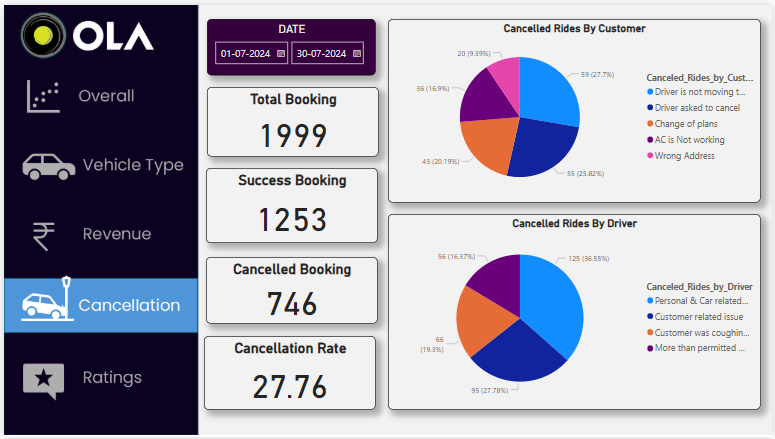

The dashboard page shown, as its layout file describes it:
{"tool":"powerbi","page":{"name":"Cancellation","canvas":[1280,720],"ordinal":3},"visuals":[{"type":"actionButton","box":[0,334.5,323.1,96.4],"z":0},{"type":"actionButton","box":[1.4,569.8,323.1,104.9],"z":1000},{"type":"actionButton","box":[0,211.2,323.1,109.1],"z":2000},{"type":"actionButton","box":[0,103.5,323.1,99.2],"z":3000},{"type":"pieChart","title":"Cancelled Rides By Customer","fields":{"Category":["Bookings-20000-Rows.Canceled_Rides_by_Customer"],"Y":["CountNonNull(Bookings-20000-Rows.Canceled_Rides_by_Customer)"]},"box":[640.6,24.1,620.8,306.1],"z":4000},{"type":"pieChart","title":"Cancelled Rides By Driver","fields":{"Y":["CountNonNull(Bookings-20000-Rows.Canceled_Rides_by_Driver)"],"Category":["Bookings-20000-Rows.Canceled_Rides_by_Driver"]},"box":[640.6,348.7,620.8,326],"z":5000},{"type":"slicer","title":"DATE","fields":{"Values":["Bookings-20000-Rows.Date"]},"box":[338.7,24.1,280.6,93.5],"z":6000},{"type":"card","title":"Total  Booking","fields":{"Values":["CountNonNull(Bookings-20000-Rows.Booking_ID)"]},"box":[338.7,137.5,286.3,116.2],"z":7000},{"type":"card","title":"Success Booking","fields":{"Values":["CountNonNull(Bookings-20000-Rows.Booking_ID)"]},"box":[335.9,272.1,286.3,124.7],"z":8000},{"type":"card","title":"Cancelled Booking","fields":{"Values":["CountNonNull(Bookings-20000-Rows.Booking_ID)"]},"box":[336.5,419.5,285.8,110.6],"z":9000},{"type":"card","title":"Cancellation Rate","fields":{"Values":["Bookings.CancelledPercentage"]},"box":[333.1,551.3,286.3,123.3],"z":10000}]}

Visuals, with their boxes in screenshot pixels (x1, y1, x2, y2), scaled from the page's 1280x720 canvas onto the 775x439 screenshot:
actionButton: (0,204,196,263)
actionButton: (1,347,196,411)
actionButton: (0,129,196,195)
actionButton: (0,63,196,124)
"Cancelled Rides By Customer" pieChart: (388,15,764,201)
"Cancelled Rides By Driver" pieChart: (388,213,764,411)
"DATE" slicer: (205,15,375,72)
"Total  Booking" card: (205,84,378,155)
"Success Booking" card: (203,166,377,242)
"Cancelled Booking" card: (204,256,377,323)
"Cancellation Rate" card: (202,336,375,411)
